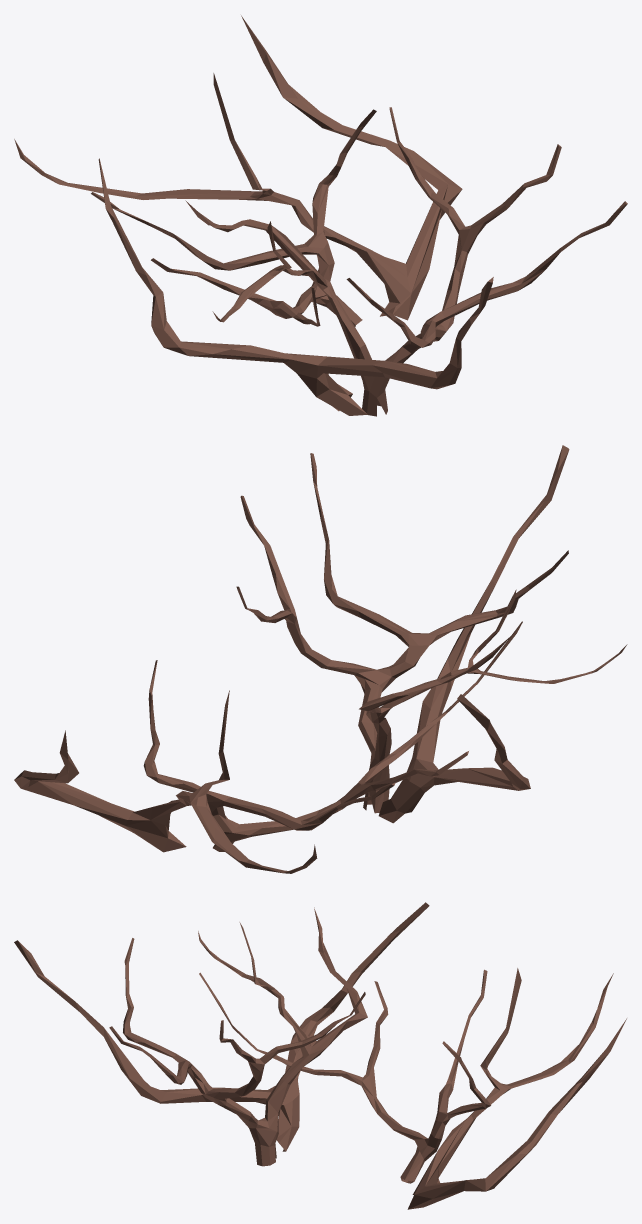
File: Tree_032.glb
The picture shows the model from 3 angles, top to bottom: view 1: azimuth 30°, elevation 25°; view 2: azimuth 150°, elevation 25°; view 3: azimuth 270°, elevation 25°; orthographic projection. The views are drawn at different scales.
Visible parts, largest first — view 1: Tree_032; view 2: Tree_032; view 3: Tree_032.
Part boxes in pixels (left/top/right/bottom): Tree_032: left=14, top=15, right=627, bottom=416; Tree_032: left=14, top=445, right=627, bottom=873; Tree_032: left=14, top=902, right=626, bottom=1209.
Bounding box in the file's own units: 5.2 × 2.97 × 7.88.
1 material, 1 textured.
